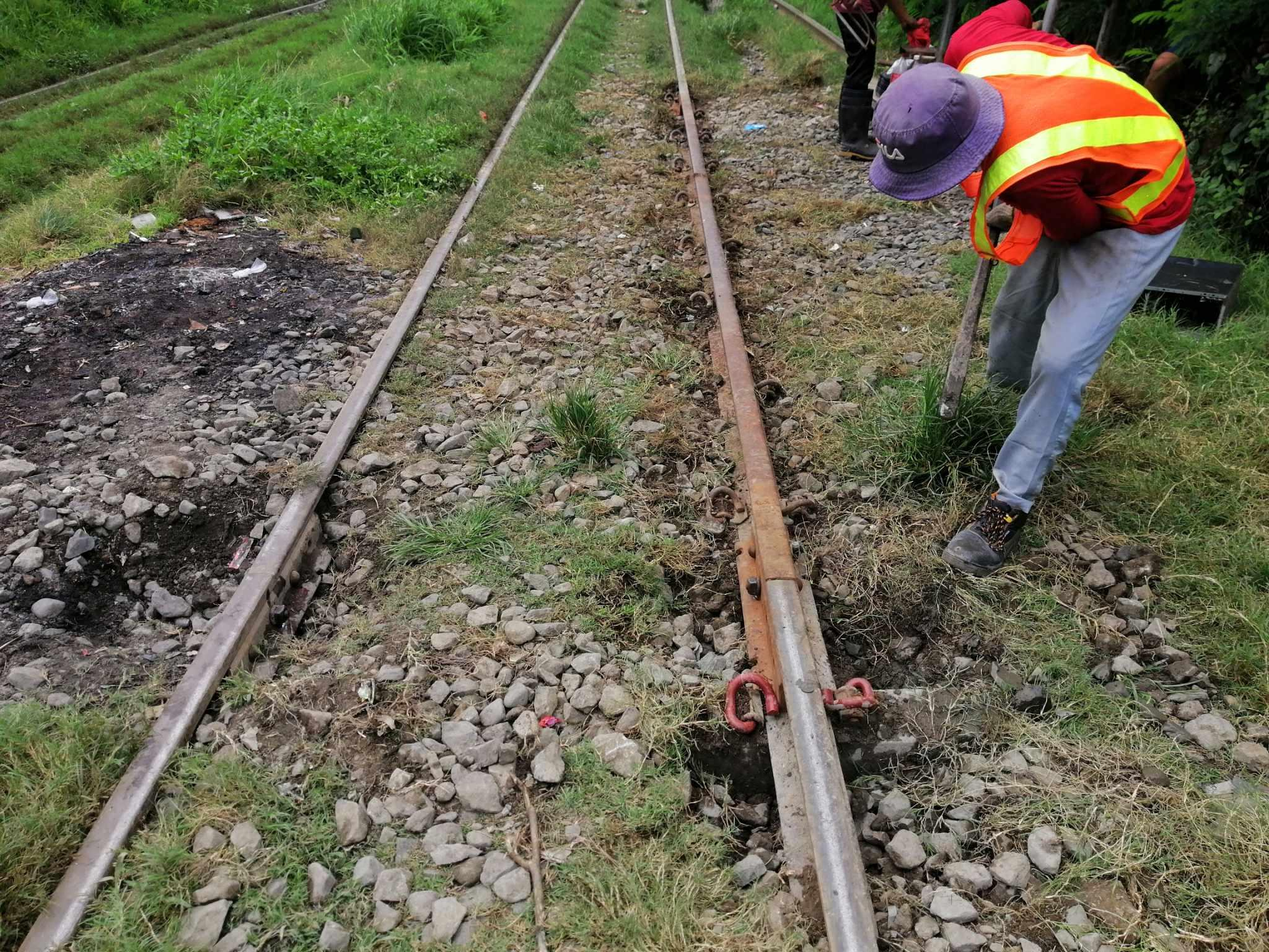railway-gap: (736, 537, 823, 622)
